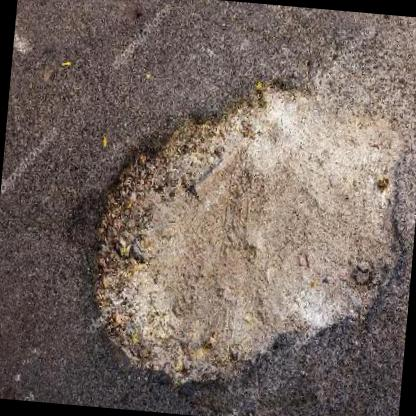pothole: (51, 45, 416, 407)
